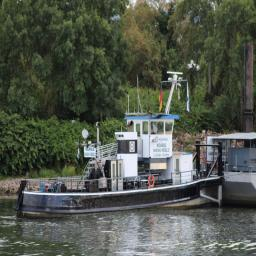tugboat: (13, 71, 229, 224)
